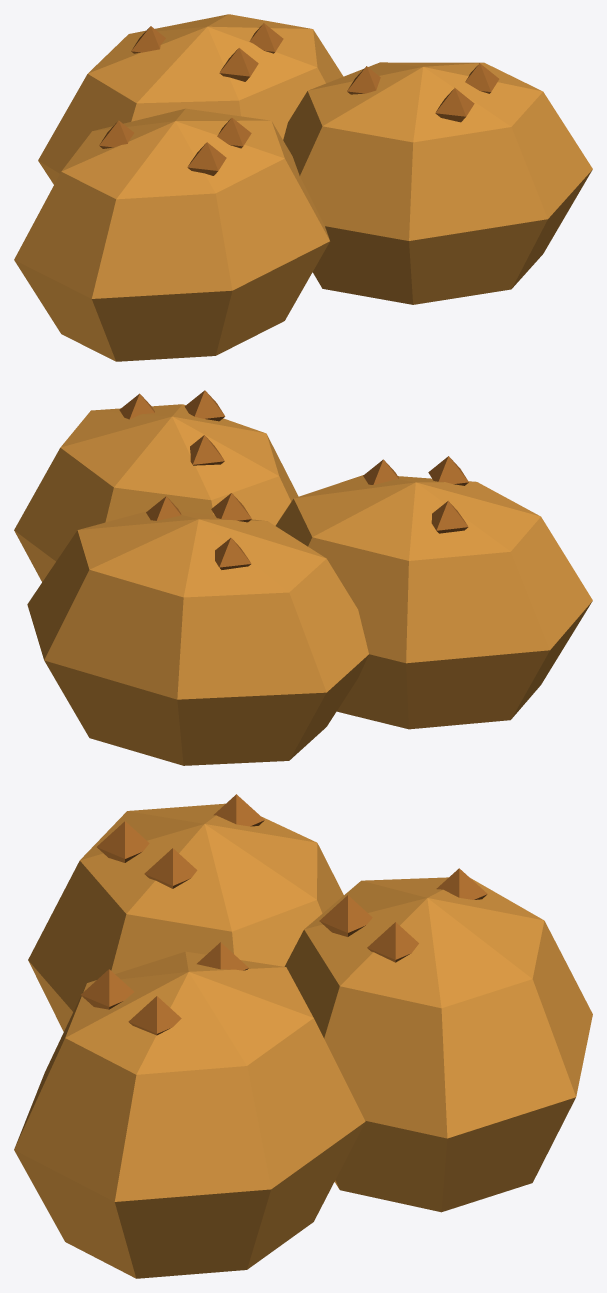
Rendered from Food_FriedChicken.obj.
3 renders of one model, top to bottom at view 1: azimuth 30°, elevation 25°; view 2: azimuth 150°, elevation 25°; view 3: azimuth 270°, elevation 25°, orthographic. The views are drawn at different scales.
Size of the model in its own units: 2.4 by 1.01 by 1.82.
